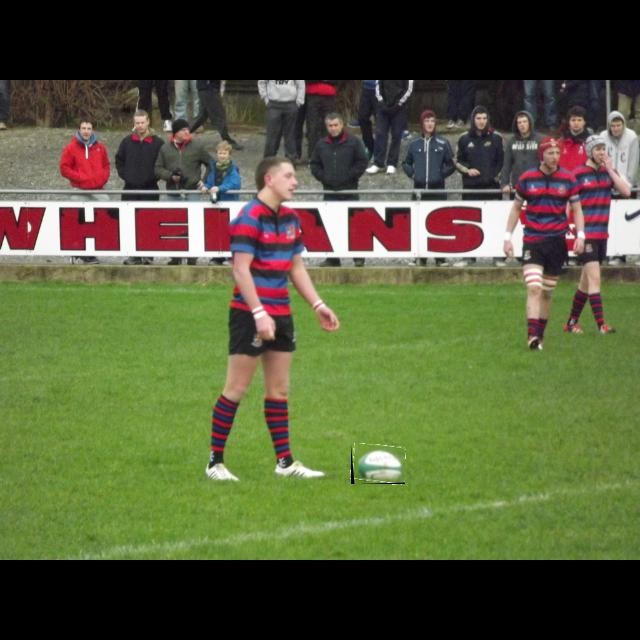Football: (351, 444, 405, 484)
